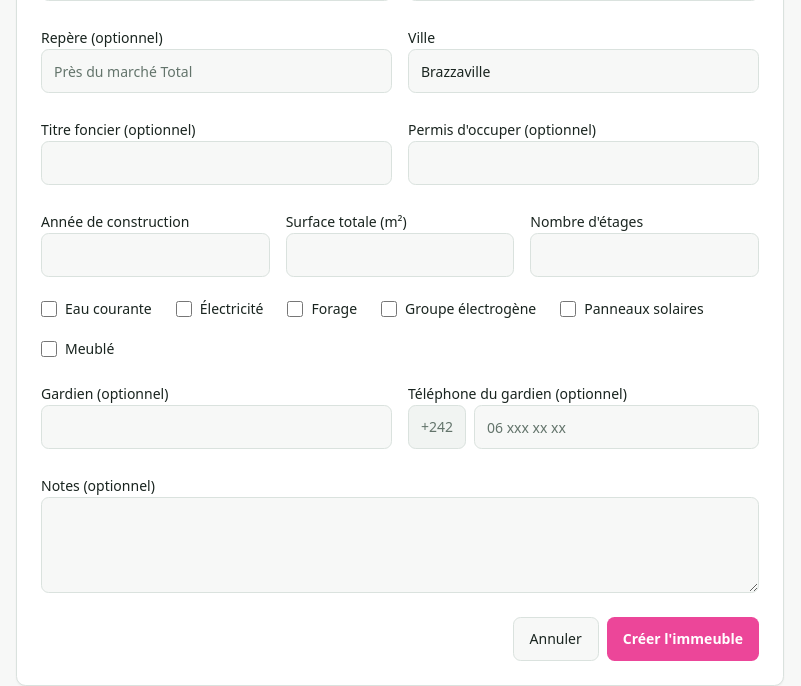
NouvelImmeublePage — meubles et équipements › affiche la section des meubles une fois « Meublé » coché
(page scrolled)
Click the checkbox labelled "Meublé". click: [49, 349]
box: [41,341,57,357]
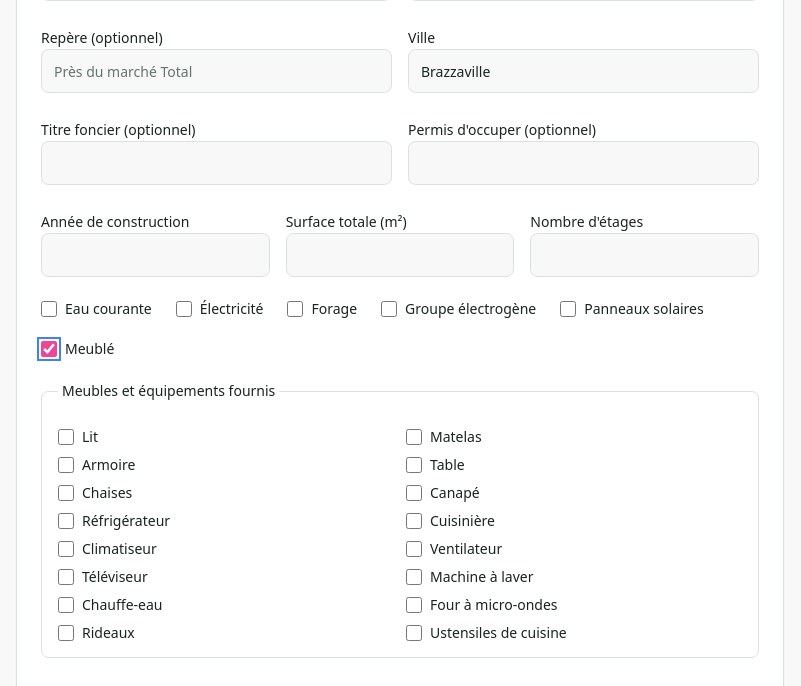
expect the text "Meubles et équipements fournis" is shown: met, box [58,381,279,401]
expect the checkbox labelled "Lit" is shown: met, box [58,429,74,445]
expect the checkbox labelled "Canapé" is shown: met, box [406,485,422,501]
